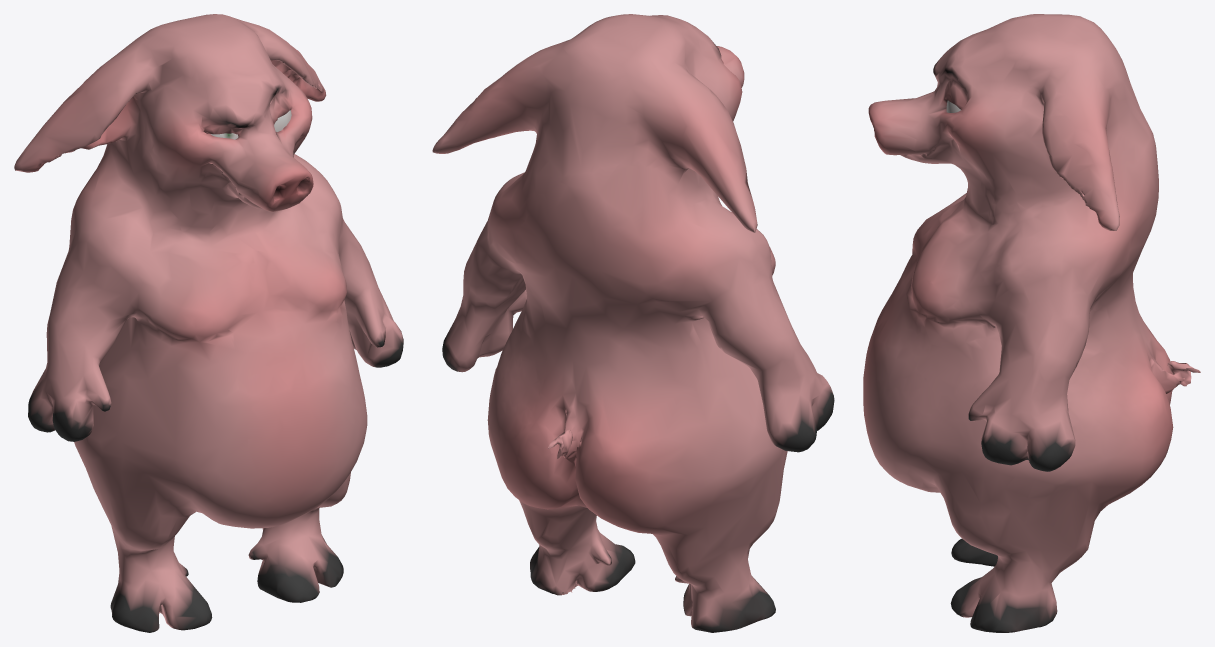
File: big_brother_pig.glb
3 renders of one model, left to right at view 1: azimuth 30°, elevation 25°; view 2: azimuth 150°, elevation 25°; view 3: azimuth 270°, elevation 25°, orthographic. The views are drawn at different scales.
Visible parts, largest first — view 1: Object_2; view 2: Object_2; view 3: Object_2.
Part boxes in pixels (x1,y1,x2,y2): Object_2: (14,14,403,632); Object_2: (432,14,834,632); Object_2: (863,14,1200,632).
Bounding box in the file's own units: 78.32 × 118 × 64.61.
